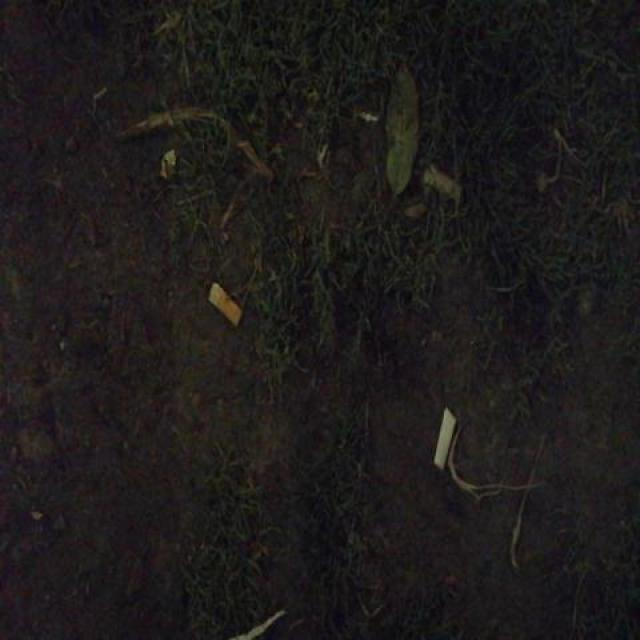non-organic waste: (205, 276, 247, 340), (420, 162, 468, 215), (431, 403, 458, 476)
